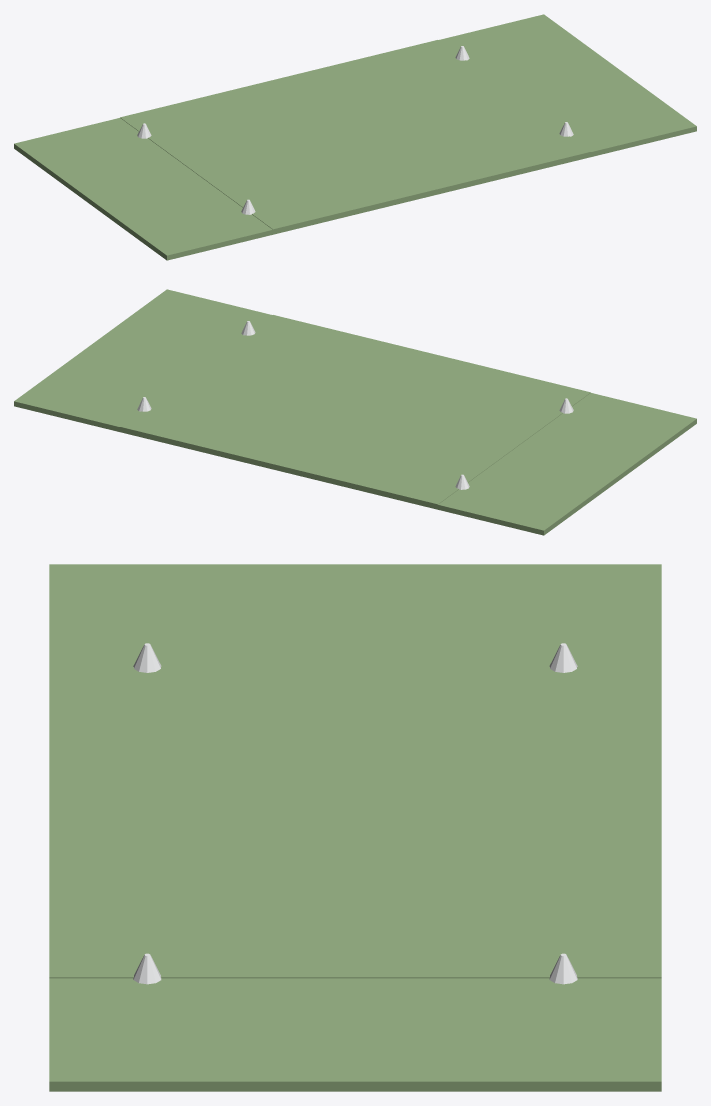
The model's file is landing_strip.glb.
The picture shows the model from 3 angles, top to bottom: view 1: azimuth 30°, elevation 25°; view 2: azimuth 150°, elevation 25°; view 3: azimuth 270°, elevation 25°; orthographic projection. The views are drawn at different scales.
Parts seen in each view (by area): view 1: grass-strip; view 2: grass-strip; view 3: grass-strip.
Boxes of the visible parts, x1,y1,x2,y2 form: grass-strip: [14, 14, 696, 260]; grass-strip: [14, 289, 696, 535]; grass-strip: [49, 564, 661, 1091].
Size of the model in its own units: 20 by 0.6004 by 10.
